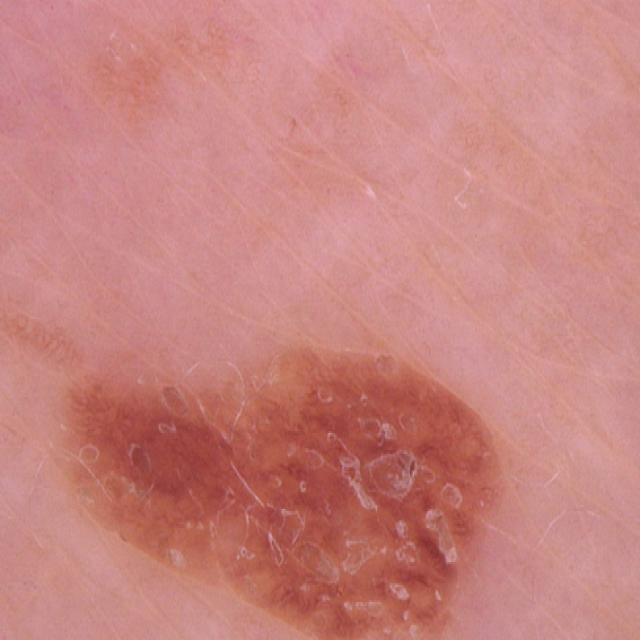Keratosis: (41, 285, 534, 640)
